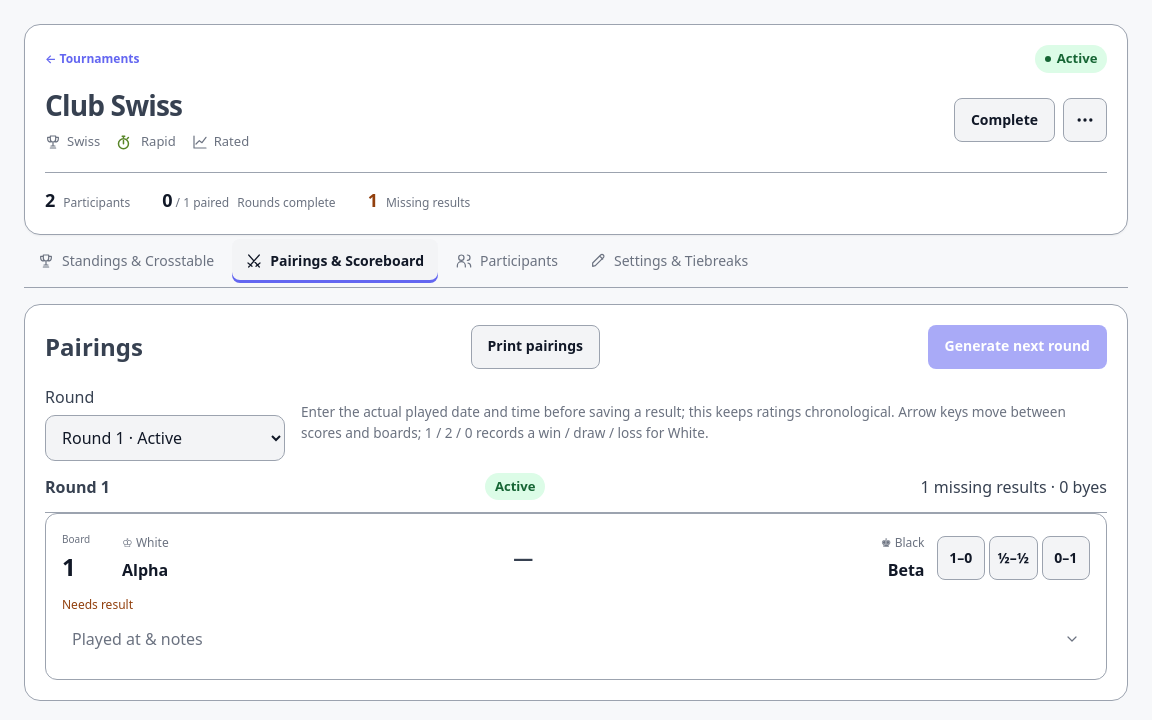
TournamentPage duplicate result protection › shows a recorded score in the pairing and print sheet after refreshing
Step 1. Click the button "1–0" → [961, 558], box left=936, top=536, right=985, bottom=580
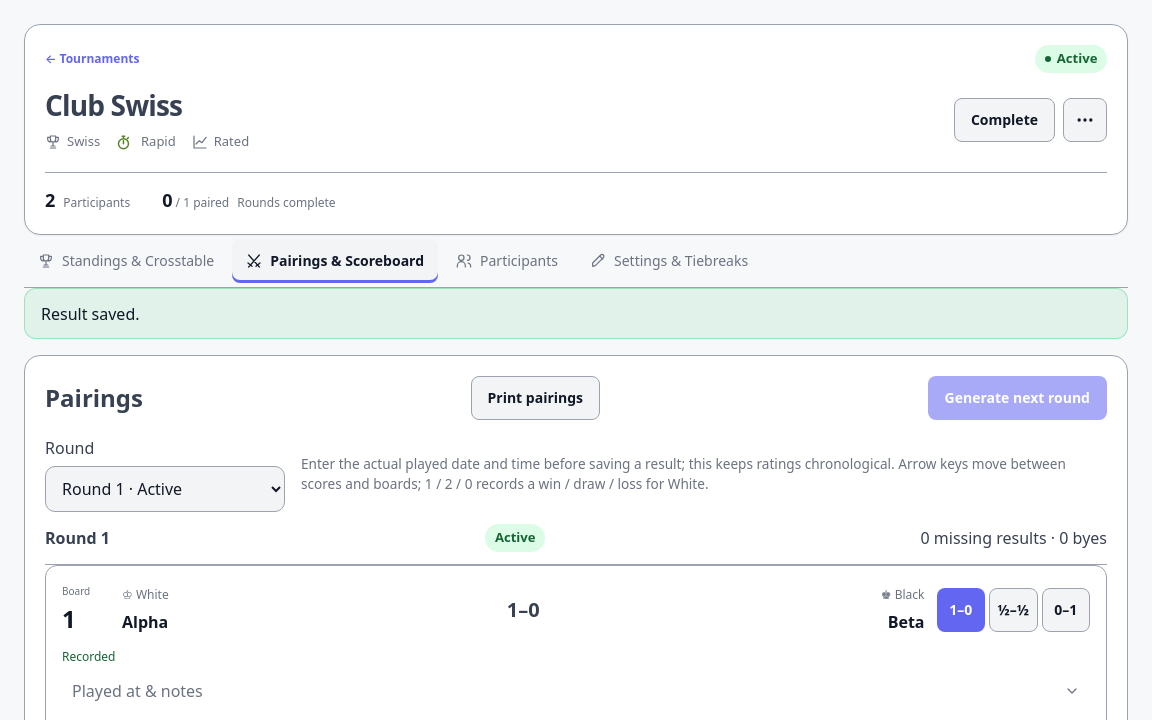
Result: the text "1–0" is shown at left=507, top=596, right=540, bottom=623
